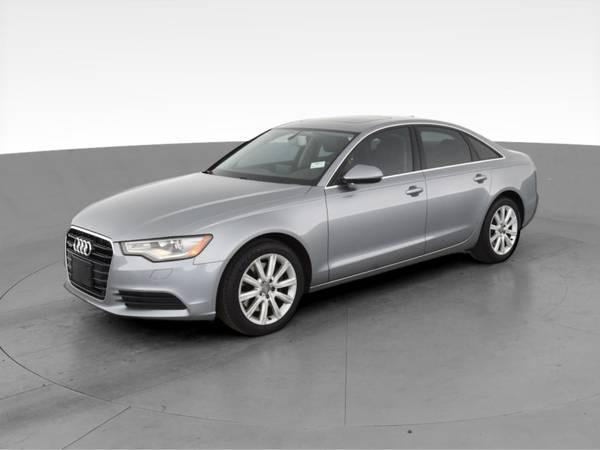Front_Bumper: (103, 243, 226, 319)
Front_Fender: (195, 185, 332, 288)
Front_Left_Door: (326, 172, 426, 283)
Front_Left_Window: (328, 127, 422, 188)
Front_Windshield: (202, 127, 356, 184)
Grille: (63, 226, 114, 307)
Hood: (74, 174, 311, 241)
Left_Headlight: (121, 234, 215, 262)
Rear_Fender: (481, 151, 539, 223)
Rear_Left_Door: (423, 162, 491, 259)
Rear_Left_Window: (416, 124, 507, 172)
Roof: (272, 115, 524, 191)
Wheel: (226, 240, 306, 332), (483, 195, 525, 260)
